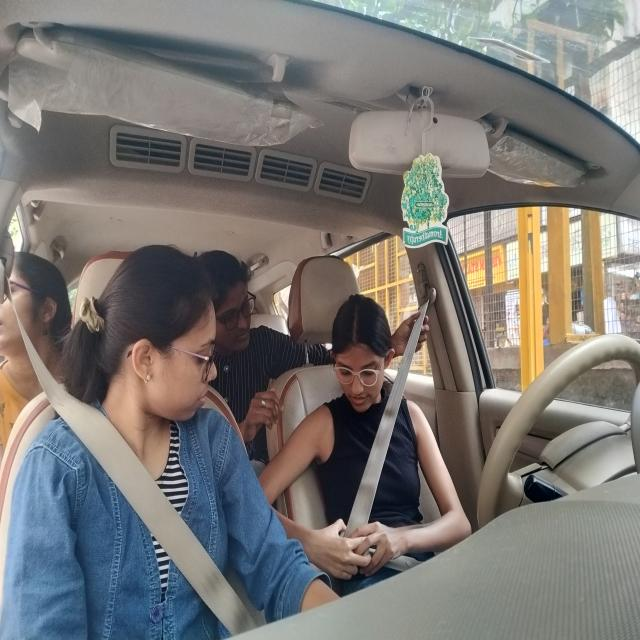drowsy: (324, 305, 406, 410)
person: (110, 235, 233, 428), (197, 259, 271, 361), (9, 248, 66, 350)
